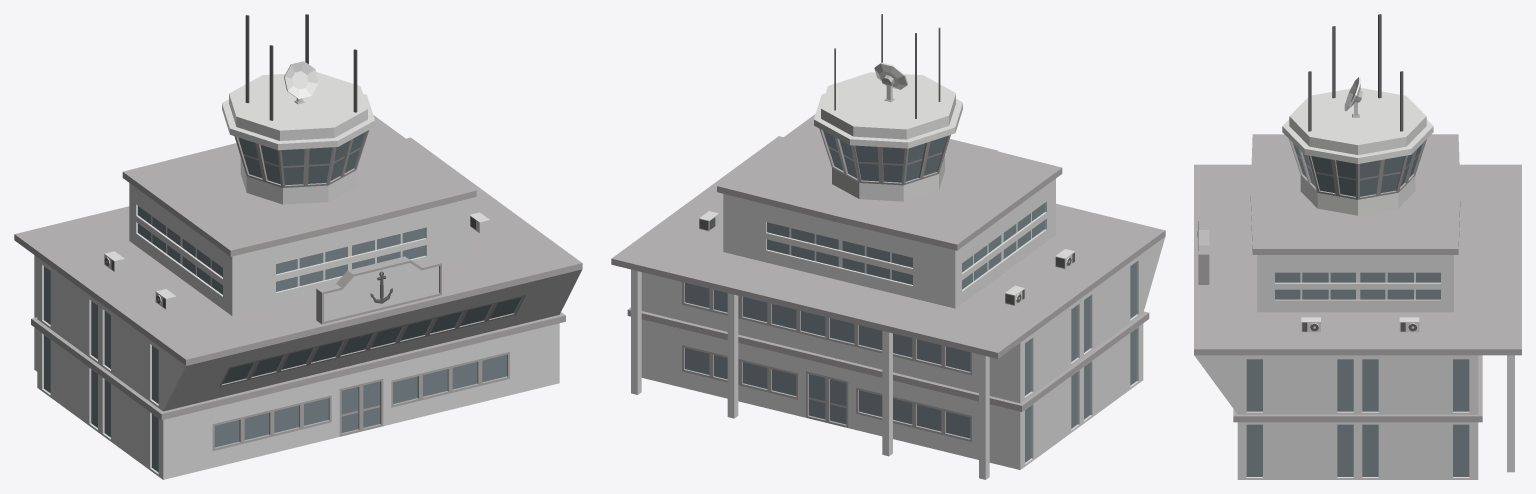
Rendered from building-dock-col.glb.
3 views of the same model, side by side, from view 1: azimuth 30°, elevation 25°; view 2: azimuth 150°, elevation 25°; view 3: azimuth 270°, elevation 25° (orthographic). The views are drawn at different scales.
Parts seen in each view (by area): view 1: building_port_sea-col; view 2: building_port_sea-col; view 3: building_port_sea-col.
Boxes of the visible parts, x1=… form: building_port_sea-col: x1=14, y1=14, x2=582, y2=479; building_port_sea-col: x1=611, y1=14, x2=1165, y2=479; building_port_sea-col: x1=1194, y1=14, x2=1521, y2=479.
Bounding box in the file's own units: 27.2 × 23.87 × 20.
